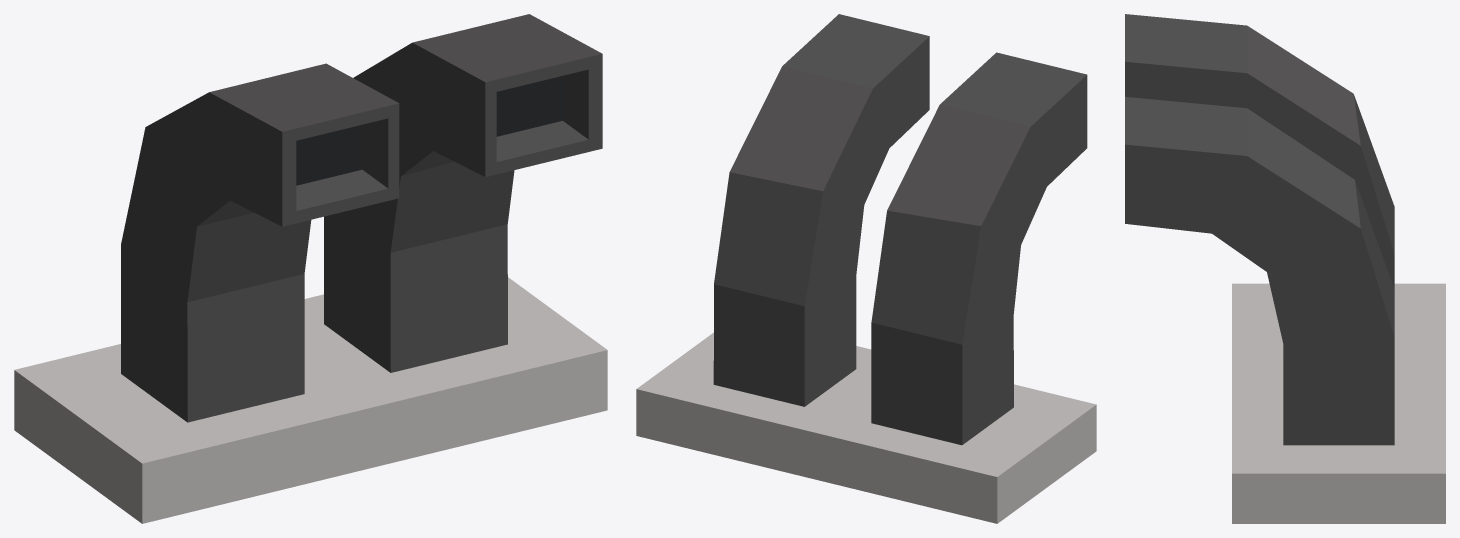
Rendered from Chimney_2.fbx.
The picture shows the model from 3 angles, left to right: view 1: azimuth 30°, elevation 25°; view 2: azimuth 150°, elevation 25°; view 3: azimuth 270°, elevation 25°; orthographic projection. The views are drawn at different scales.
Visible parts, largest first — view 1: Chimney_2; view 2: Chimney_2; view 3: Chimney_2.
Part boxes in pixels (x1,y1,x2,y2): Chimney_2: (14, 14, 607, 523); Chimney_2: (636, 14, 1096, 523); Chimney_2: (1125, 14, 1445, 523).
Bounding box in the file's own units: 133 × 115 × 95.2.
